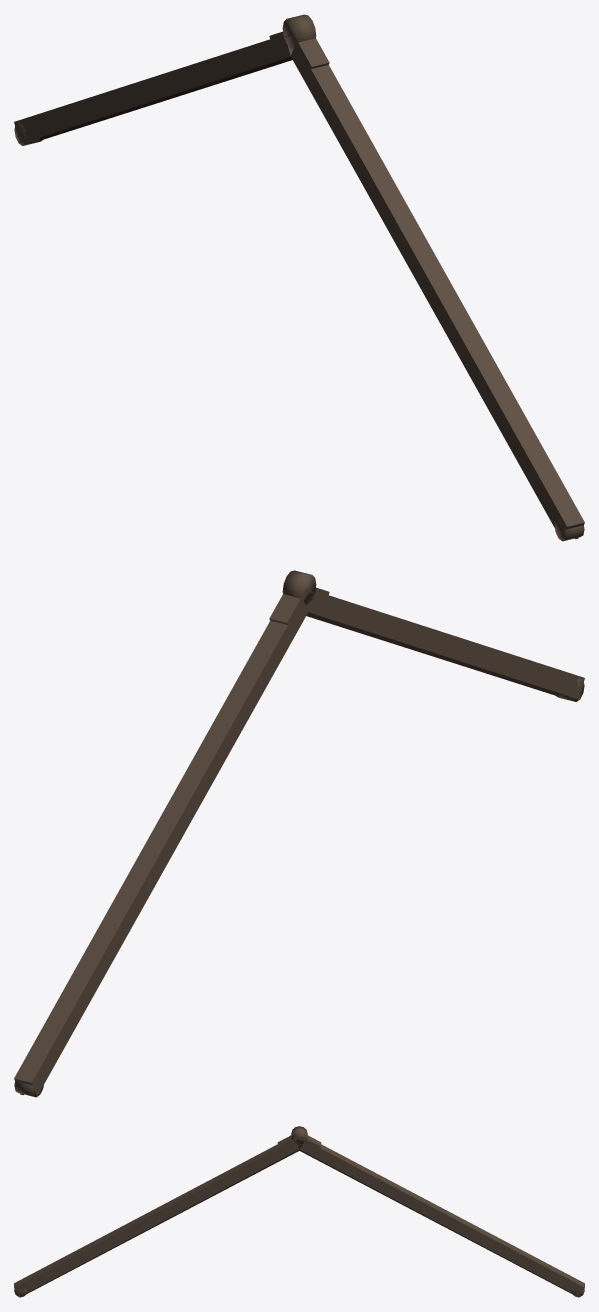
The model's file is kit_timber_thatch_w11_end.glb.
3 renders of one model, top to bottom at view 1: azimuth 30°, elevation 25°; view 2: azimuth 150°, elevation 25°; view 3: azimuth 270°, elevation 25°, orthographic. The views are drawn at different scales.
Visible parts, largest first — view 1: kit_timber_thatch_w11_end; view 2: kit_timber_thatch_w11_end; view 3: kit_timber_thatch_w11_end.
Part boxes in pixels (left/top/right/bottom): kit_timber_thatch_w11_end: left=14, top=14, right=584, bottom=541; kit_timber_thatch_w11_end: left=14, top=570, right=584, bottom=1097; kit_timber_thatch_w11_end: left=14, top=1126, right=584, bottom=1297.
Bounding box in the file's own units: 0.22 × 3.83 × 11.84.
